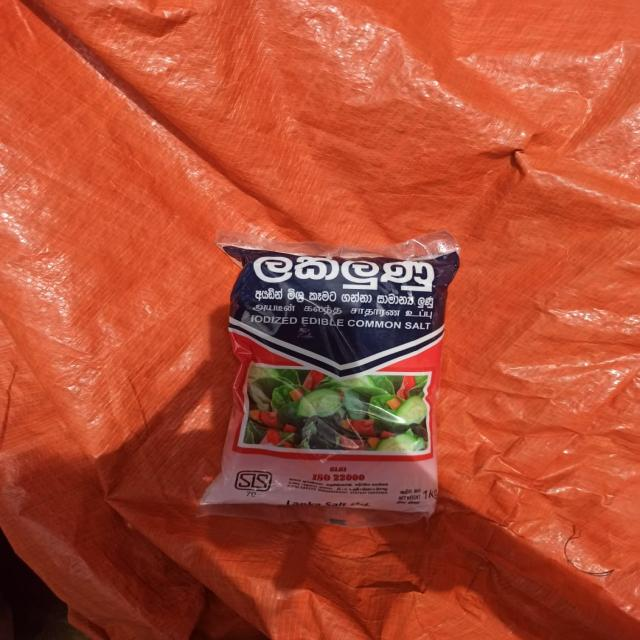Lak Lunu: (212, 237, 469, 519)
